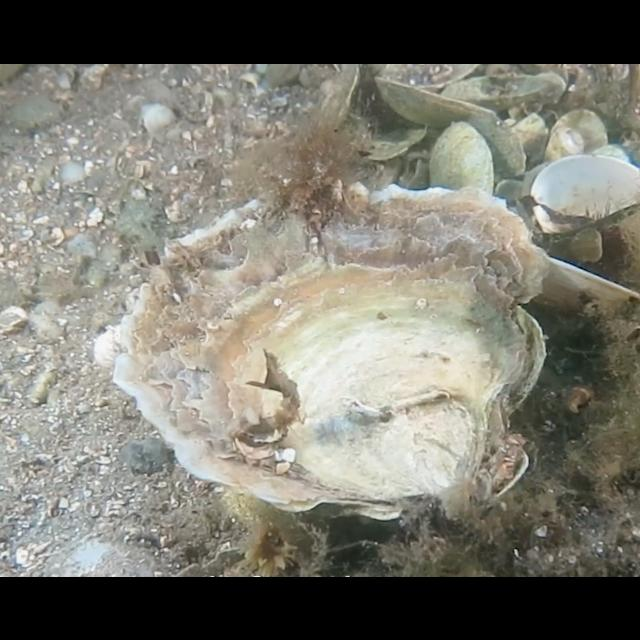Oyster-Closed: (96, 180, 550, 520)
